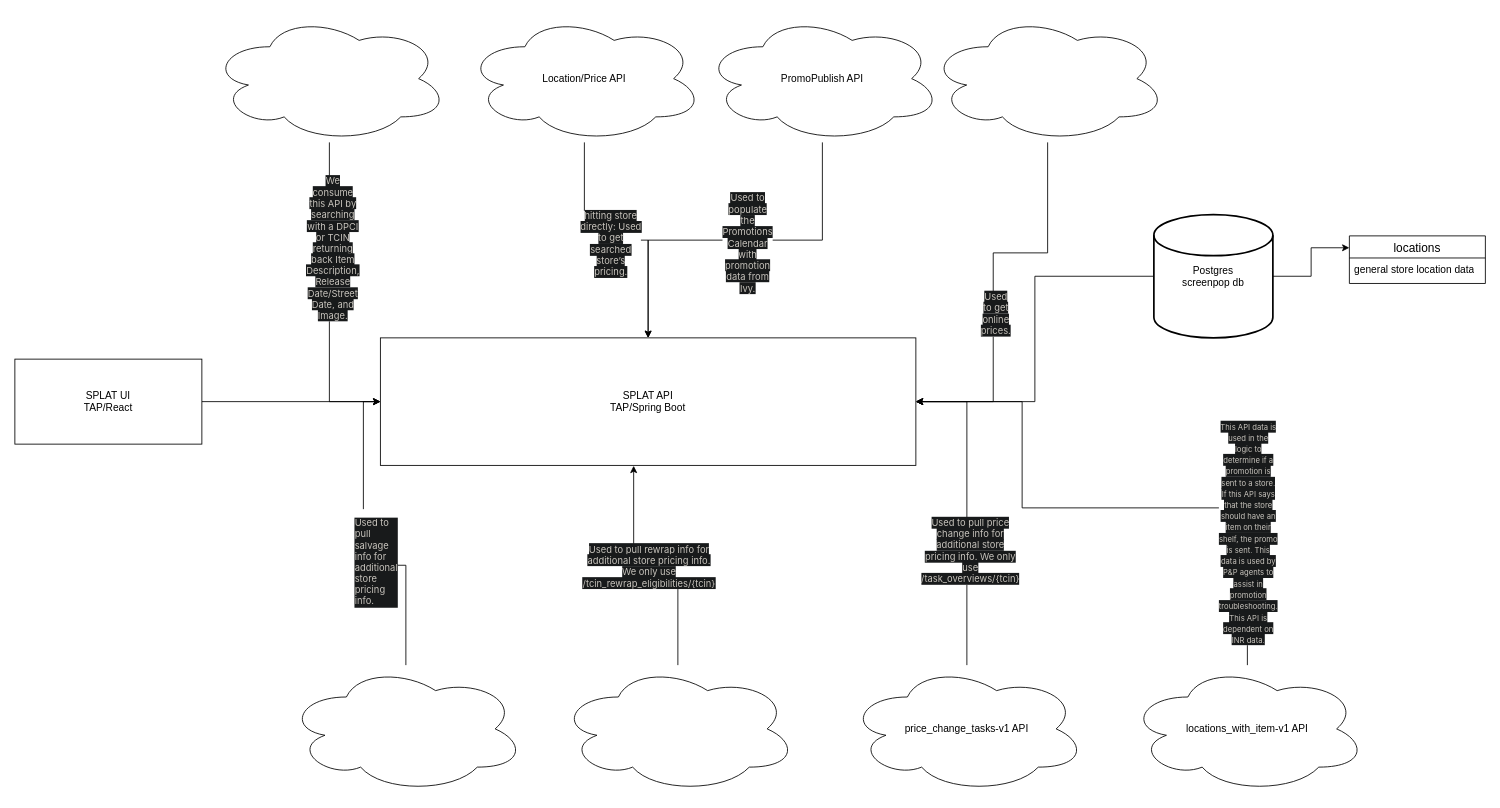
Image size: 1500x808. Some labels were removed from this diagram. The box of each missing label's shape, as (x1, y1, x2, y2) in pixels:
core_item API: (210, 14, 448, 142)
location_prices-v2 API: (928, 14, 1167, 142)
rewrap_items-v1 API: (558, 664, 797, 793)
store_item_indicators-v1 API: (286, 664, 525, 793)
